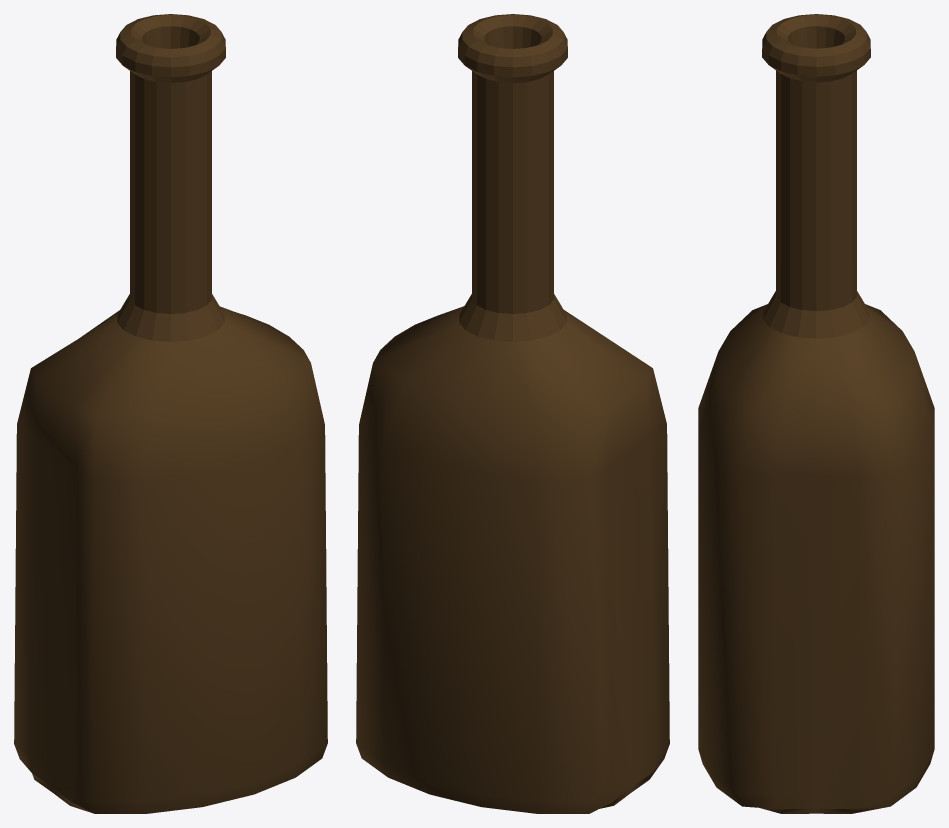
The model's file is Botella2.fbx.
The picture shows the model from 3 angles, left to right: view 1: azimuth 30°, elevation 25°; view 2: azimuth 150°, elevation 25°; view 3: azimuth 270°, elevation 25°; orthographic projection.
Visible parts, largest first — view 1: Cylinder001; view 2: Cylinder001; view 3: Cylinder001.
Part boxes in pixels (x1,y1,x2,y2): Cylinder001: [14, 14, 327, 813]; Cylinder001: [356, 14, 669, 813]; Cylinder001: [698, 14, 934, 813].
Size of the model in its own units: 26.8 by 78.66 by 23.22.
1 material, 1 textured.
